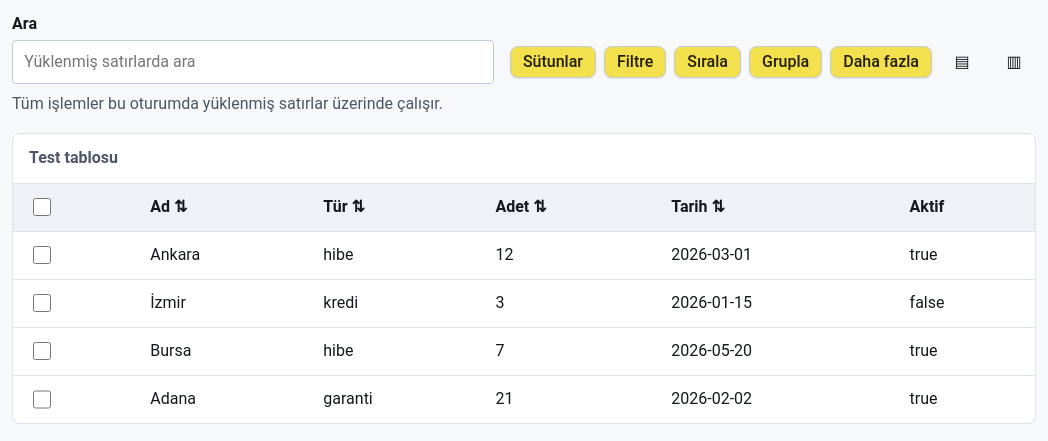
Test: search › shows a distinct no-results state rather than an empty table
In the search field: (253, 62) [12,40,494,84], type "böyle-bir-kayıt-yok"
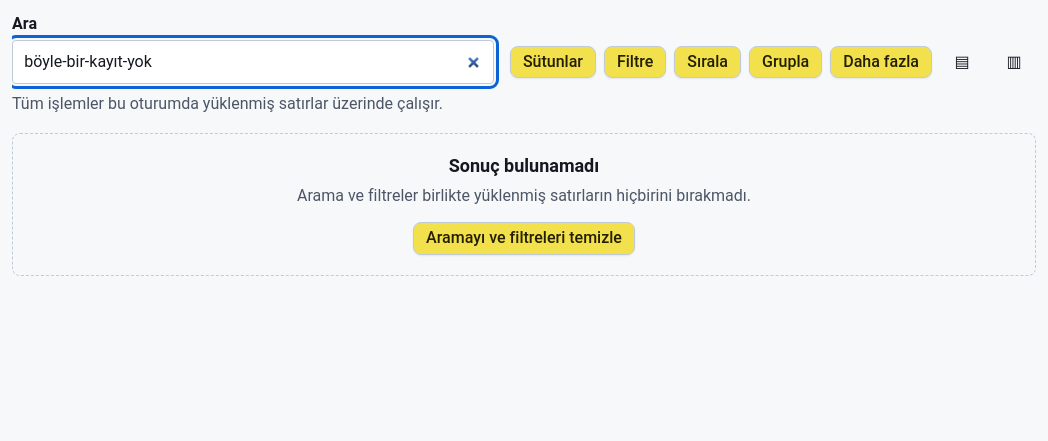
Expected: the heading "Sonuç bulunamadı" is shown, [449,155,599,176]
